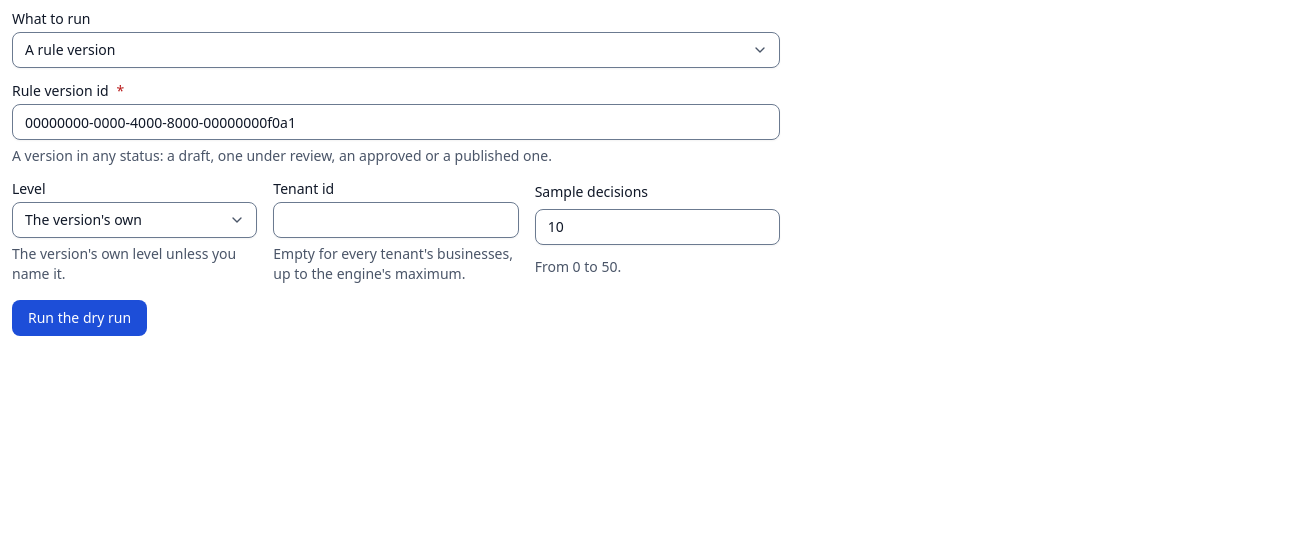
Test: DryRunForm › shows the engine's refusal with the way to narrow the scope
What coordinates should you click on to do the following:
click the button "Run the dry run"
I would click on:
 (80, 318)
Its box is x1=12 y1=300 x2=147 y2=336.
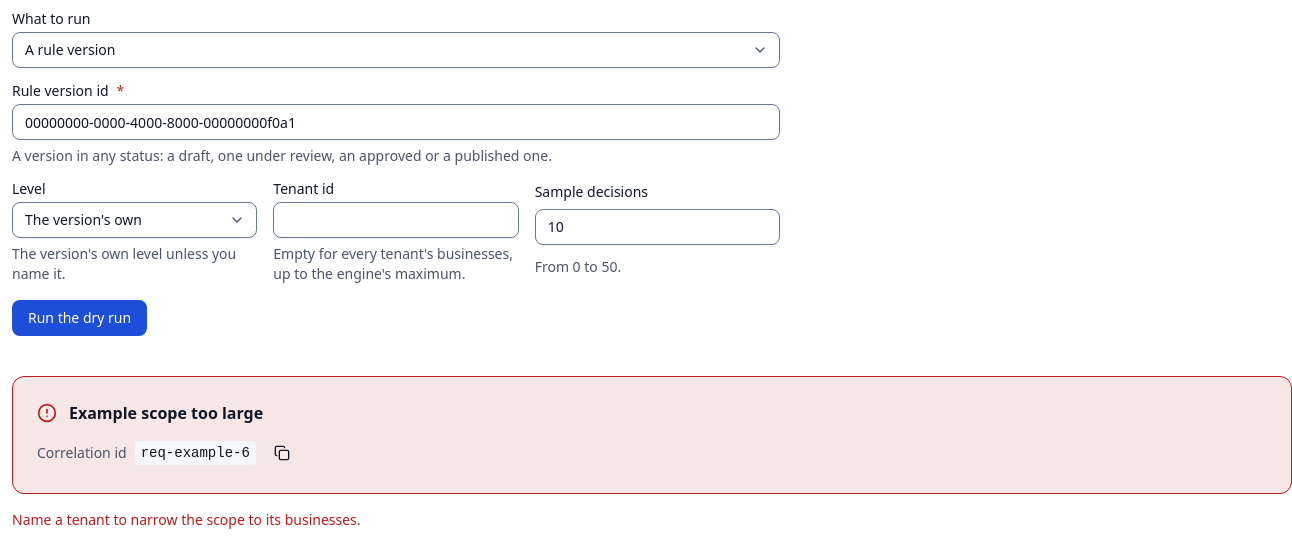
Now the text "Example scope too large" is shown, box x1=69 y1=402 x2=263 y2=424
Now the text "req-example-6" is shown, box x1=135 y1=441 x2=256 y2=465
Now the text "Name a tenant to narrow the scope to its businesses." is shown, box x1=12 y1=510 x2=361 y2=529
